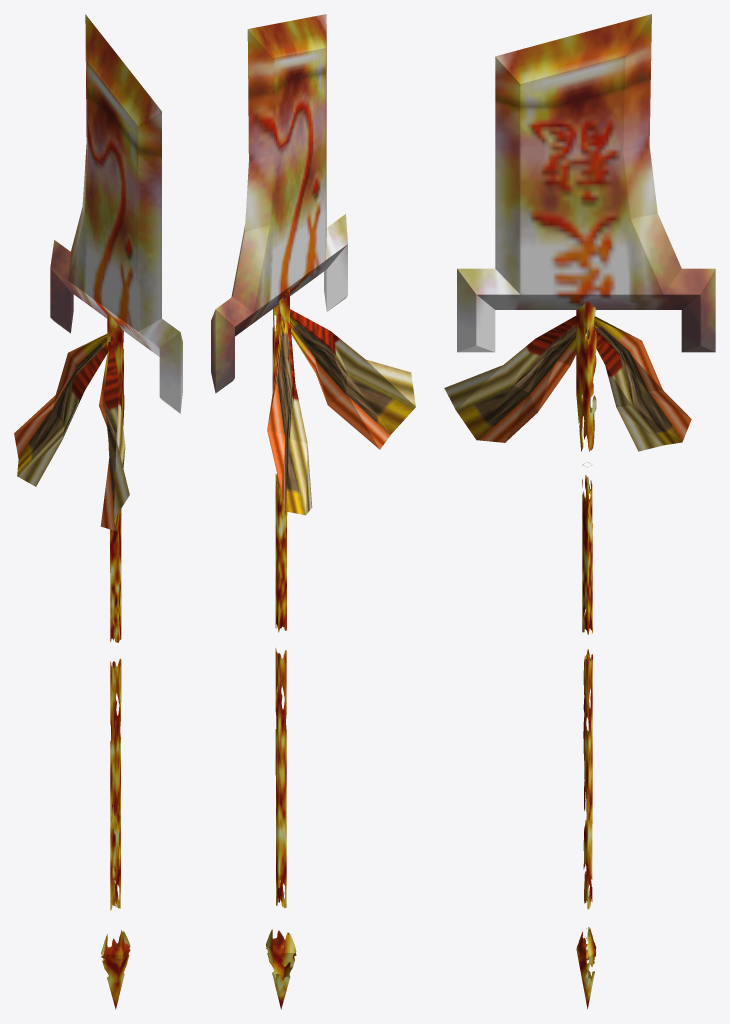
The model's file is longarm06_1.obj.
The picture shows the model from 3 angles, left to right: view 1: azimuth 30°, elevation 25°; view 2: azimuth 150°, elevation 25°; view 3: azimuth 270°, elevation 25°; orthographic projection. The views are drawn at different scales.
Visible parts, largest first — view 1: longarm06_1; view 2: longarm06_1; view 3: longarm06_1.
Boxes of the visible parts, <box> form: longarm06_1: <box>14,14,182,1009</box>; longarm06_1: <box>211,14,415,1009</box>; longarm06_1: <box>444,14,715,1008</box>.
Size of the model in its own units: 0.2062 by 2.35 by 0.58.
